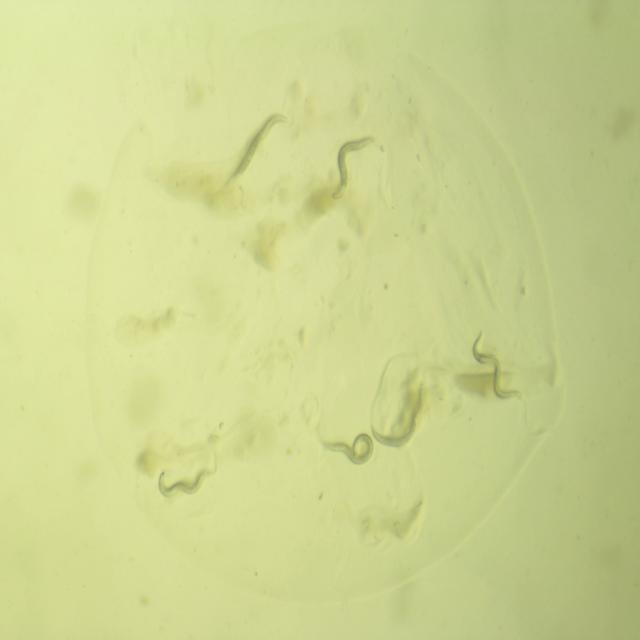worm: (220, 105, 293, 199), (465, 322, 526, 412), (325, 128, 391, 206), (364, 378, 430, 456), (153, 454, 221, 507), (312, 422, 378, 471)
